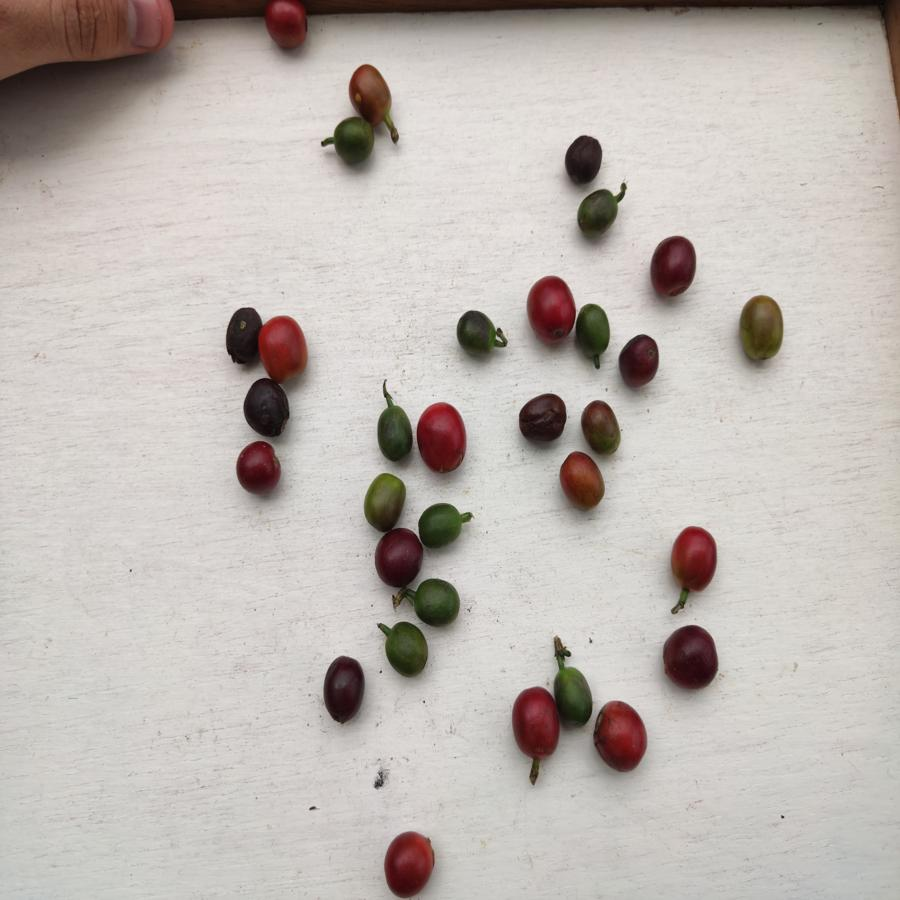Inmaduro: (553, 664, 594, 728), (383, 620, 429, 677), (453, 304, 499, 358), (326, 118, 377, 163), (409, 580, 460, 625), (577, 189, 623, 236), (375, 405, 411, 465), (420, 499, 464, 547), (576, 303, 610, 360)
Maduro: (591, 698, 650, 773), (417, 398, 468, 475), (383, 828, 438, 898), (668, 523, 721, 592), (525, 277, 577, 345), (511, 686, 558, 759), (259, 316, 311, 380), (259, 1, 310, 57)
Pinton: (736, 293, 787, 361), (349, 63, 395, 117), (560, 453, 604, 509), (363, 472, 406, 529), (581, 399, 620, 451)
Sobremaduro: (661, 623, 721, 691), (647, 234, 701, 301), (320, 656, 365, 726), (234, 442, 287, 498), (517, 391, 568, 447), (374, 528, 421, 586), (615, 333, 662, 390), (244, 380, 290, 438), (226, 306, 260, 370), (562, 135, 605, 183)
